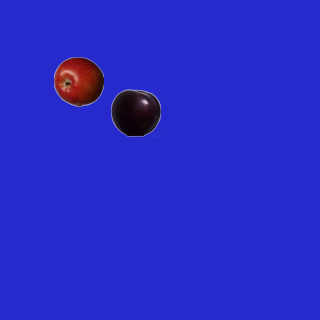Apple Braeburn: (53, 56, 103, 106)
Cherry Wax Black: (110, 87, 160, 137)
